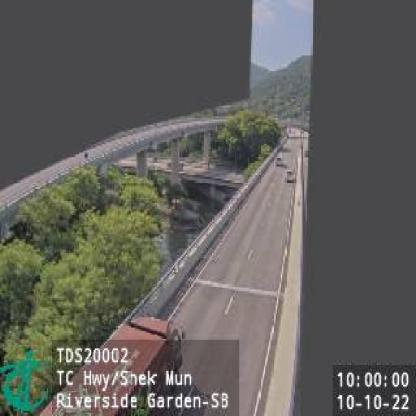Car: (287, 168, 295, 180), (276, 156, 284, 166)
Truck: (67, 311, 188, 416)
